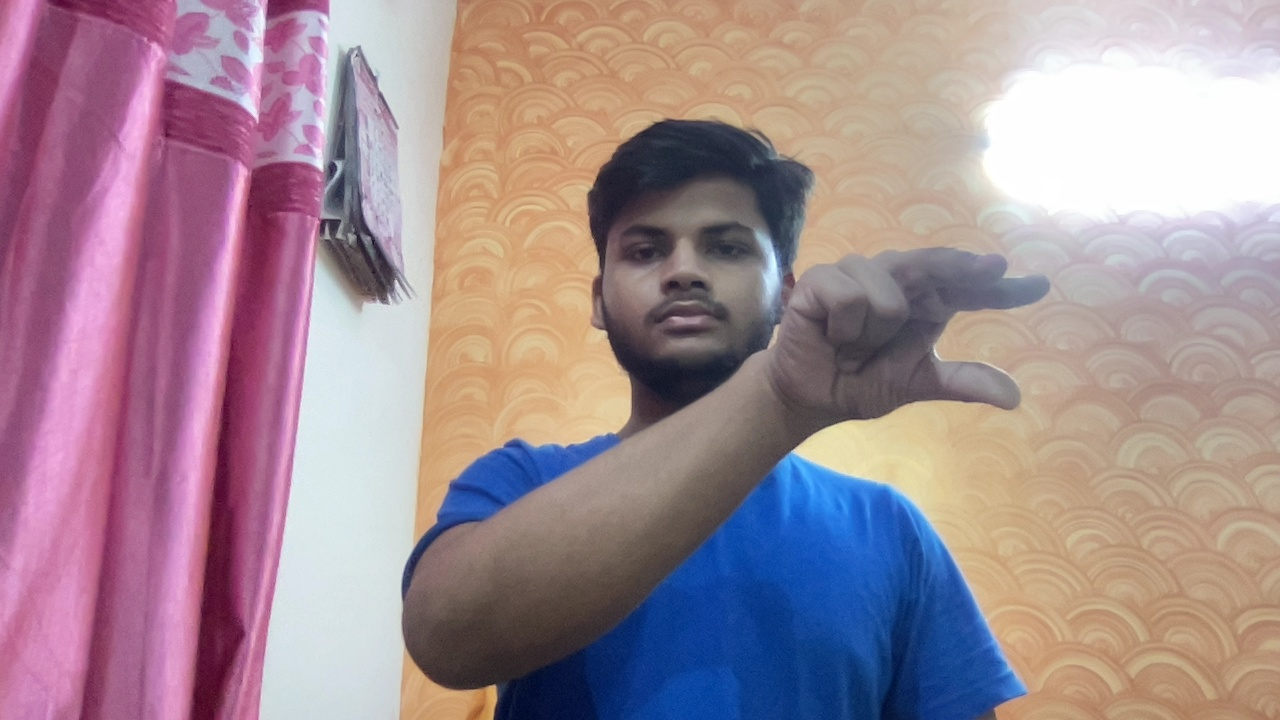no: (758, 243, 1077, 455)
